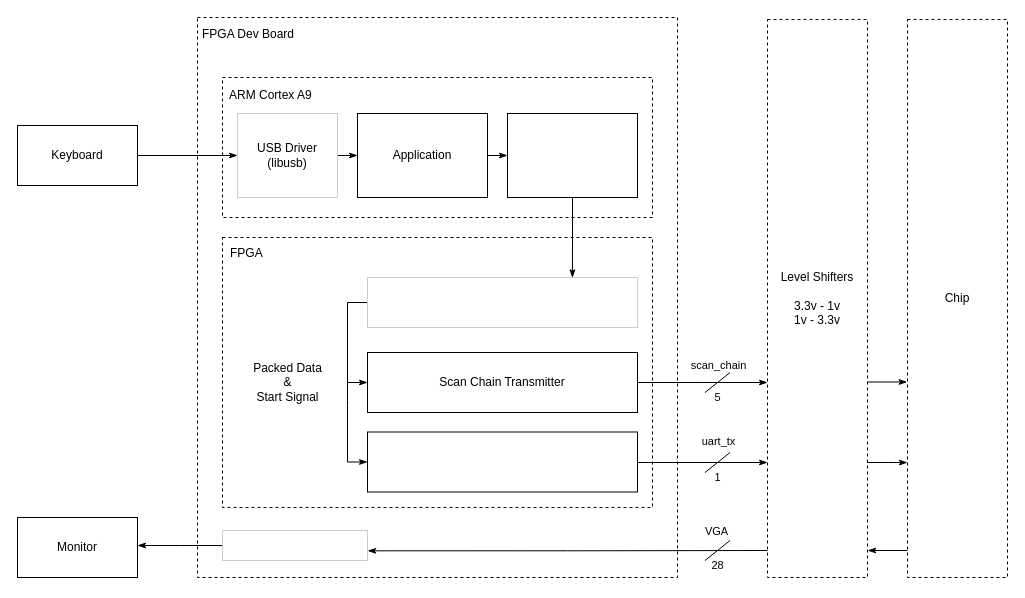
Some shapes in this 1025 by 598 pixel diagram are drawn without their labels. The shapes that lost their labels are listed below. From the top down, each one's box as (x1, y1, x2, y2) in pixels, then its label:
(506, 112, 638, 198): Customised Linux Kernel Module
(366, 276, 638, 328): Avalon Bus
(366, 431, 638, 492): UART Transmitter
(222, 530, 368, 560): VGA DAC
